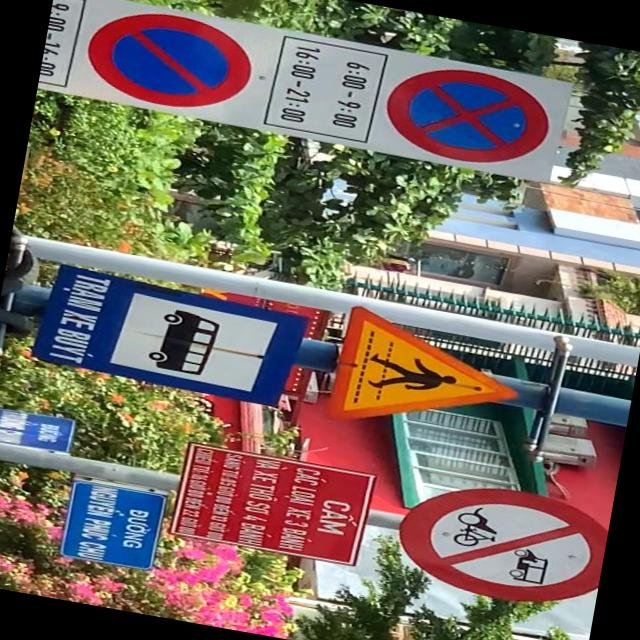P-130: (377, 57, 558, 176)
P-131a: (81, 1, 258, 117)
W-224: (330, 303, 532, 445)
